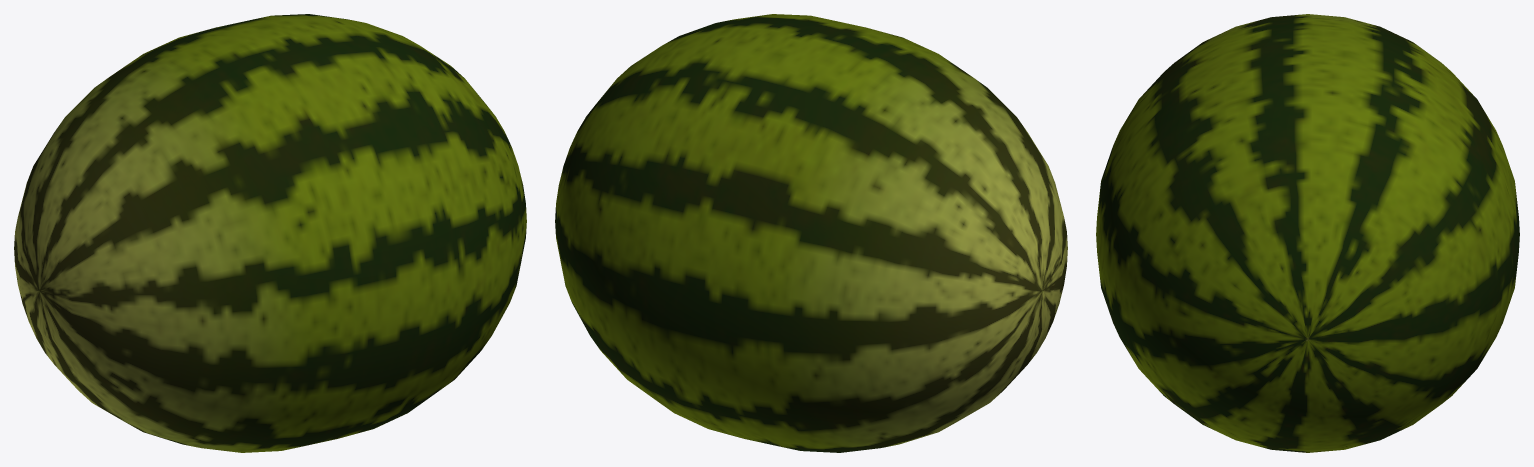
The model's file is Paintable_Watermelon.fbx.
The picture shows the model from 3 angles, left to right: view 1: azimuth 30°, elevation 25°; view 2: azimuth 150°, elevation 25°; view 3: azimuth 270°, elevation 25°; orthographic projection. The views are drawn at different scales.
Parts seen in each view (by area): view 1: Paintable_Watermelon_LOD0; view 2: Paintable_Watermelon_LOD0; view 3: Paintable_Watermelon_LOD0.
Boxes of the visible parts, box(x1,y1,x2,y2) form: Paintable_Watermelon_LOD0: box(14, 14, 526, 452); Paintable_Watermelon_LOD0: box(555, 14, 1067, 452); Paintable_Watermelon_LOD0: box(1096, 14, 1519, 452).
Size of the model in its own units: 0.8318 by 0.6875 by 0.67.
